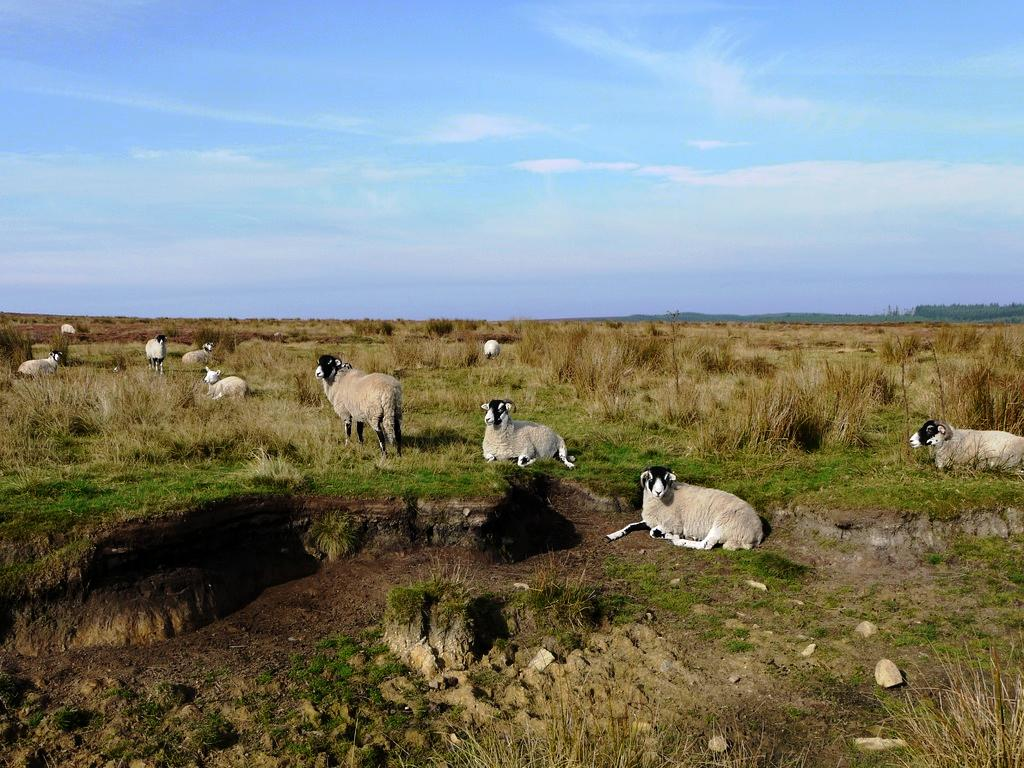Sheep: (606, 467, 767, 544), (316, 356, 414, 460), (479, 397, 576, 470), (904, 424, 1024, 476), (206, 365, 244, 400), (14, 352, 59, 380), (182, 339, 215, 372), (145, 332, 165, 366), (480, 342, 500, 358), (59, 324, 76, 335)
